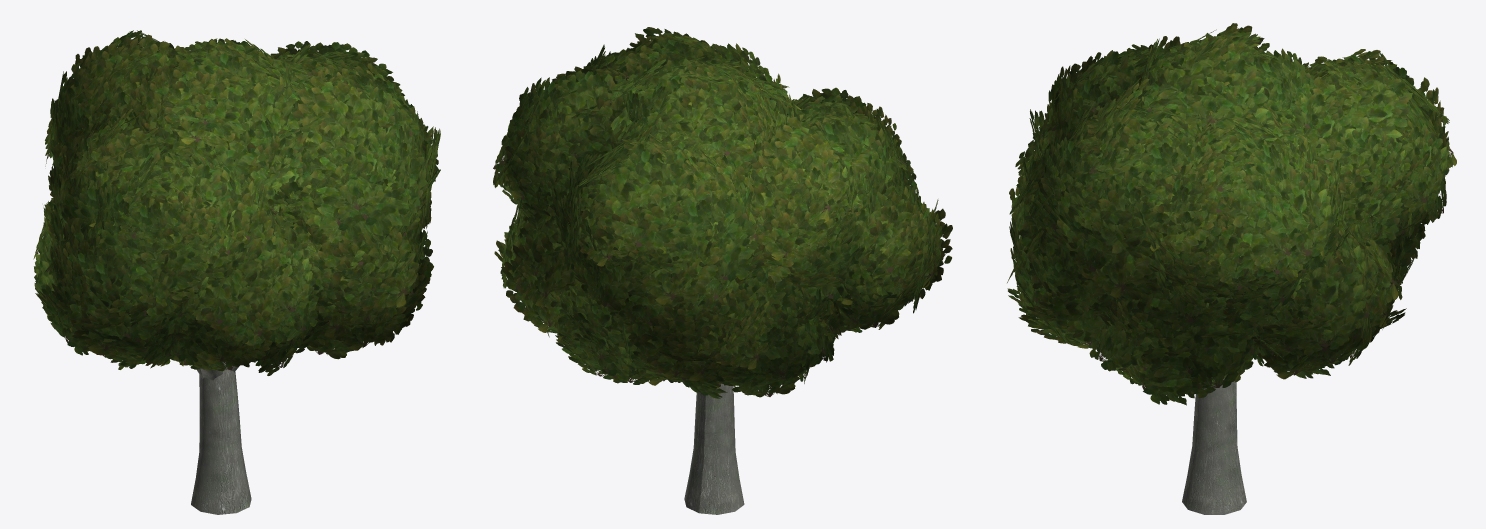
The model's file is beech_a-Dzlzd4C-.glb.
3 renders of one model, left to right at view 1: azimuth 30°, elevation 25°; view 2: azimuth 150°, elevation 25°; view 3: azimuth 270°, elevation 25°, orthographic. The views are drawn at different scales.
Parts seen in each view (by area): view 1: leaves, bark; view 2: leaves, bark; view 3: leaves, bark.
Part boxes in pixels (x1,y1,x2,y2): leaves: (33, 30, 440, 375); bark: (191, 362, 251, 514); leaves: (493, 27, 952, 398); bark: (684, 383, 744, 514); leaves: (1007, 23, 1456, 405); bark: (1182, 378, 1246, 514).
Size of the model in its own units: 12.34 by 12.61 by 11.5.
Materials: 2 (2 with a texture image).
